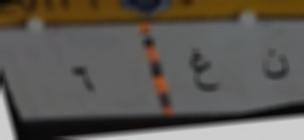6: (68, 62, 99, 94)
ghayn: (187, 47, 220, 94)
noon: (260, 45, 290, 80)
